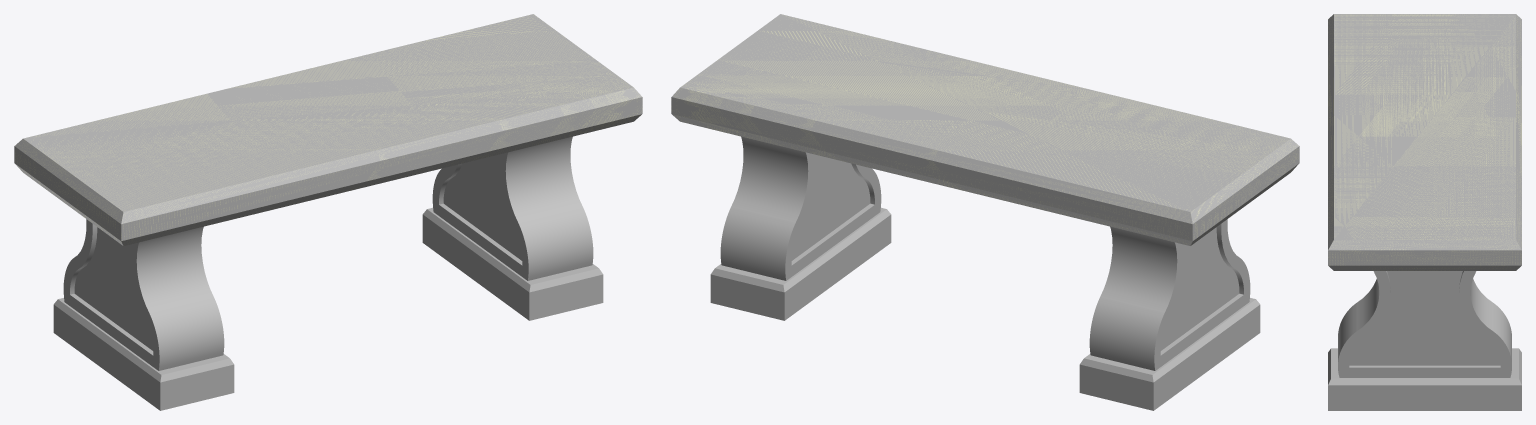
The picture shows the model from 3 angles, left to right: view 1: azimuth 30°, elevation 25°; view 2: azimuth 150°, elevation 25°; view 3: azimuth 270°, elevation 25°; orthographic projection. The views are drawn at different scales.
Parts seen in each view (by area): view 1: mesh5_mesh5-geometry, mesh1_mesh1-geometry, mesh3_mesh3-geometry; view 2: mesh5_mesh5-geometry, mesh3_mesh3-geometry, mesh1_mesh1-geometry; view 3: mesh5_mesh5-geometry, mesh1_mesh1-geometry, mesh3_mesh3-geometry.
Part boxes in pixels (left/top/right/bottom): mesh5_mesh5-geometry: left=14, top=14, right=642, bottom=245; mesh1_mesh1-geometry: left=107, top=136, right=603, bottom=410; mesh3_mesh3-geometry: left=53, top=158, right=485, bottom=371; mesh5_mesh5-geometry: left=671, top=14, right=1299, bottom=245; mesh3_mesh3-geometry: left=710, top=136, right=1206, bottom=410; mesh1_mesh1-geometry: left=828, top=158, right=1260, bottom=371; mesh5_mesh5-geometry: left=1328, top=14, right=1521, bottom=270; mesh1_mesh1-geometry: left=1328, top=271, right=1424, bottom=410; mesh3_mesh3-geometry: left=1425, top=271, right=1521, bottom=410.
Bounding box in the file's own units: 0.8885 × 0.3336 × 0.3151.
